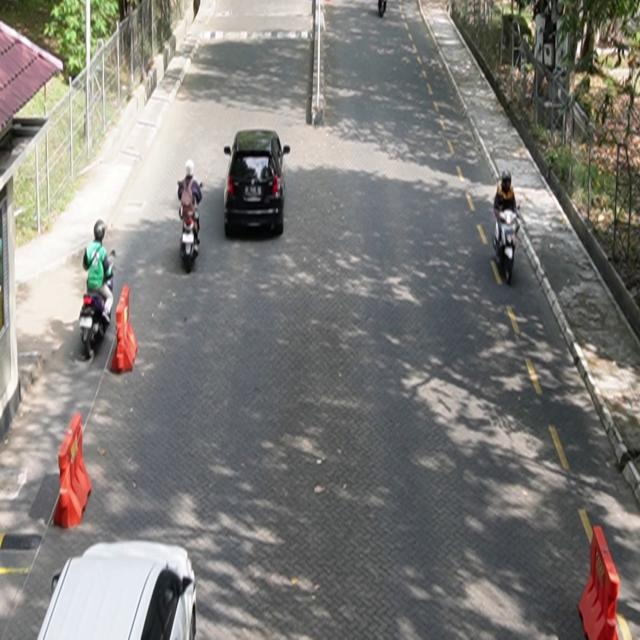car: (38, 541, 198, 640), (224, 129, 291, 238)
